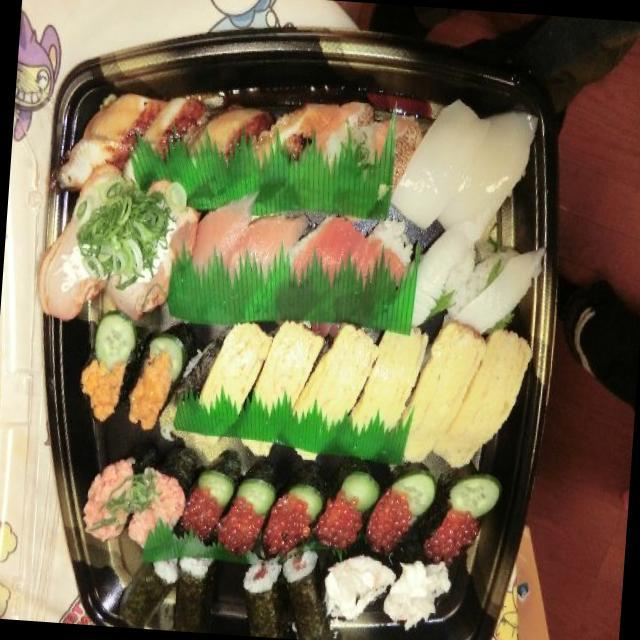Sushi: (62, 102, 518, 608)
